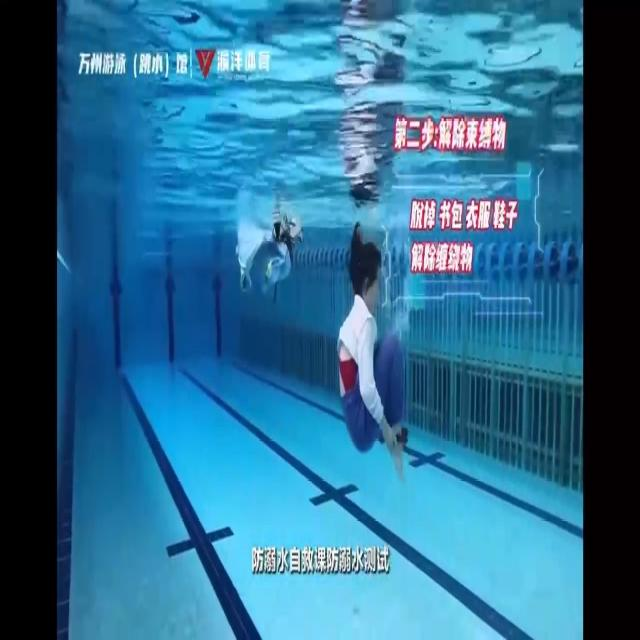Drowning: (336, 226, 411, 476)
